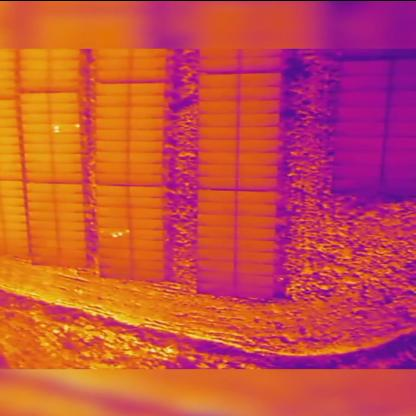panel: (126, 127, 167, 143), (124, 104, 165, 120), (127, 171, 164, 188), (128, 92, 167, 108), (126, 116, 164, 132), (93, 170, 131, 186), (93, 138, 131, 154), (93, 93, 131, 109), (93, 126, 129, 142), (127, 150, 165, 165), (126, 139, 164, 154), (92, 82, 132, 96), (127, 161, 164, 176), (128, 82, 167, 96), (94, 150, 133, 164), (94, 160, 130, 175), (93, 115, 131, 129), (94, 104, 132, 118)
